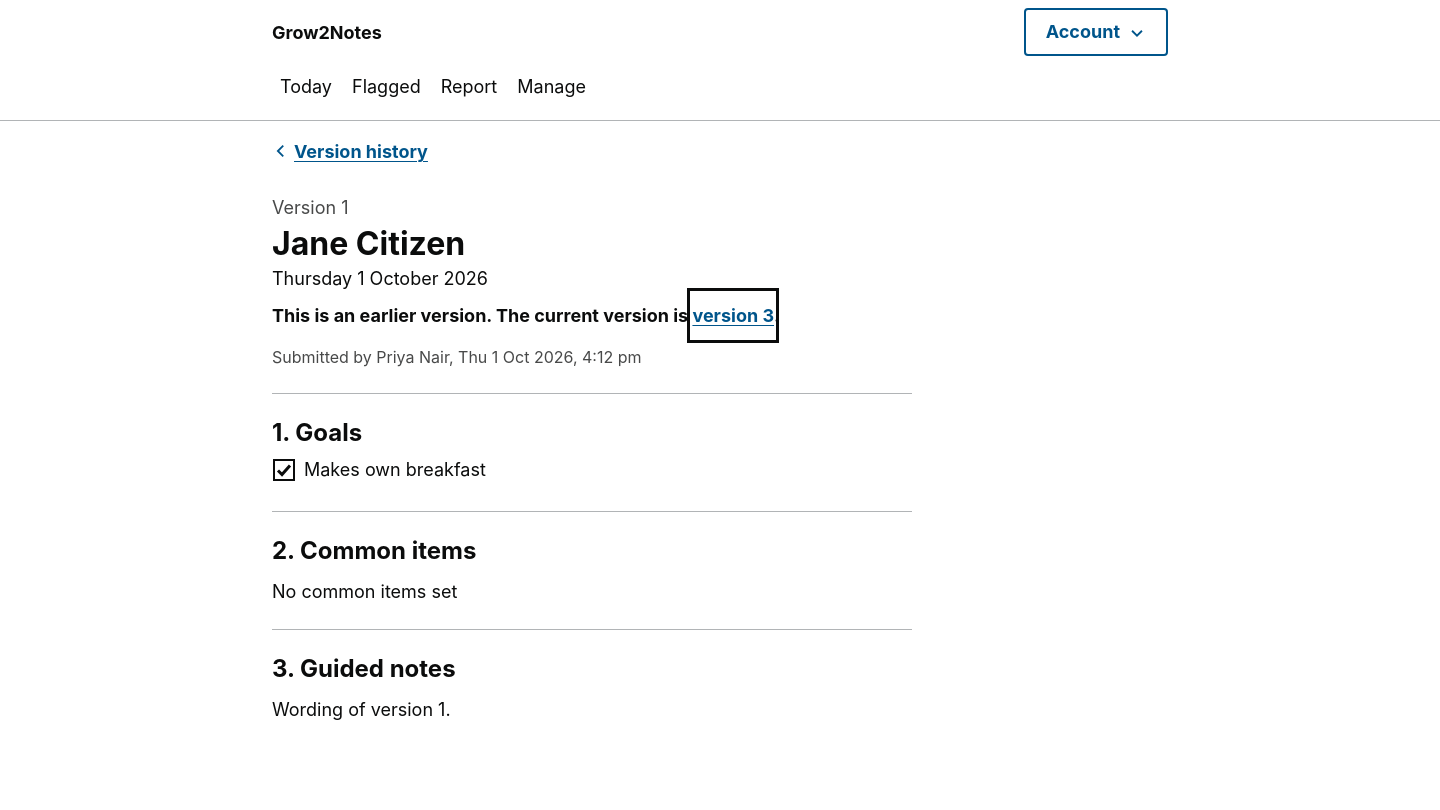
A version once loaded › follows the link to the current version, which then says it is current
Click the link "version 3": point(733, 316) x1=692 y1=305 x2=774 y2=326
Wait 1 ms
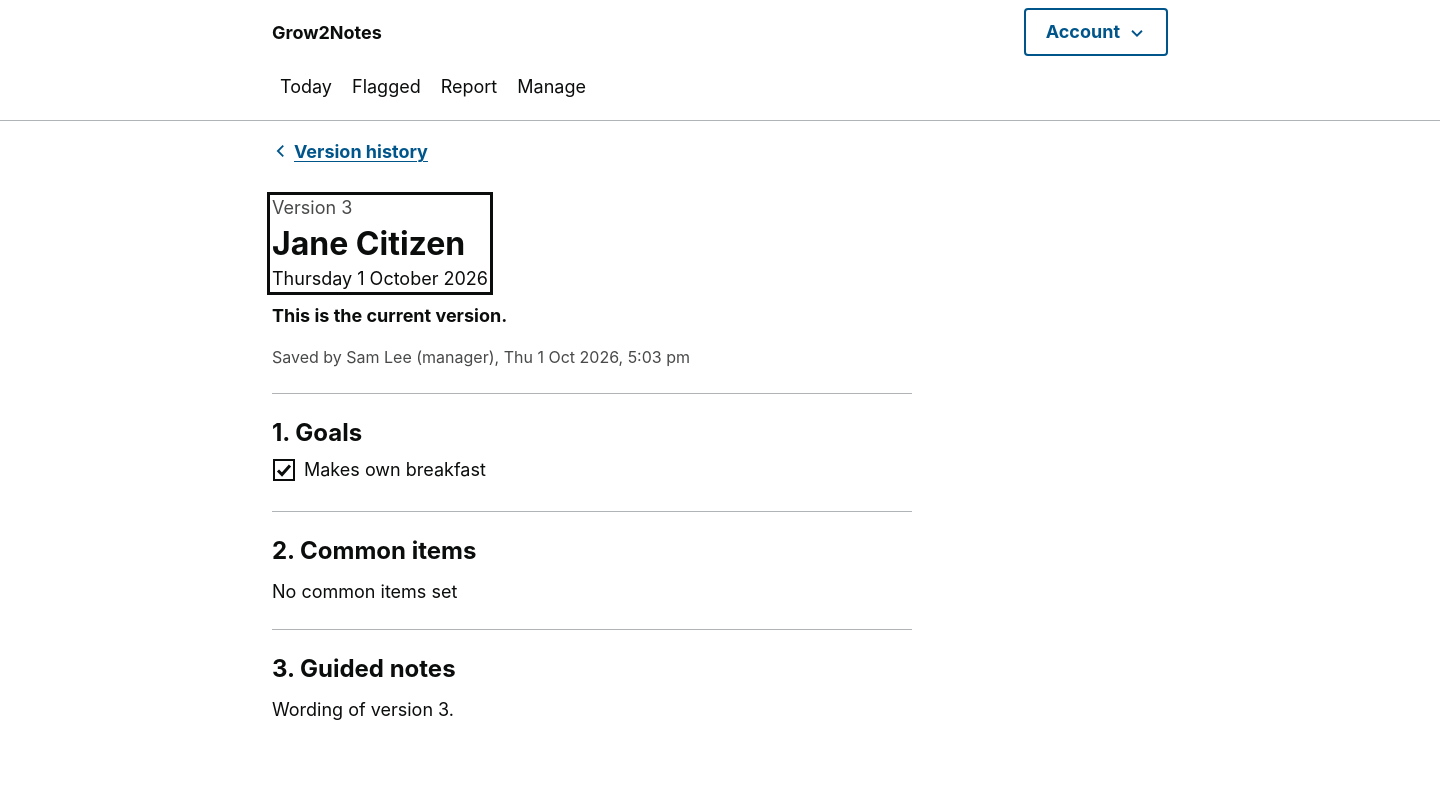
Expected: the text "This is the current version." is shown, x1=272 y1=305 x2=507 y2=326
